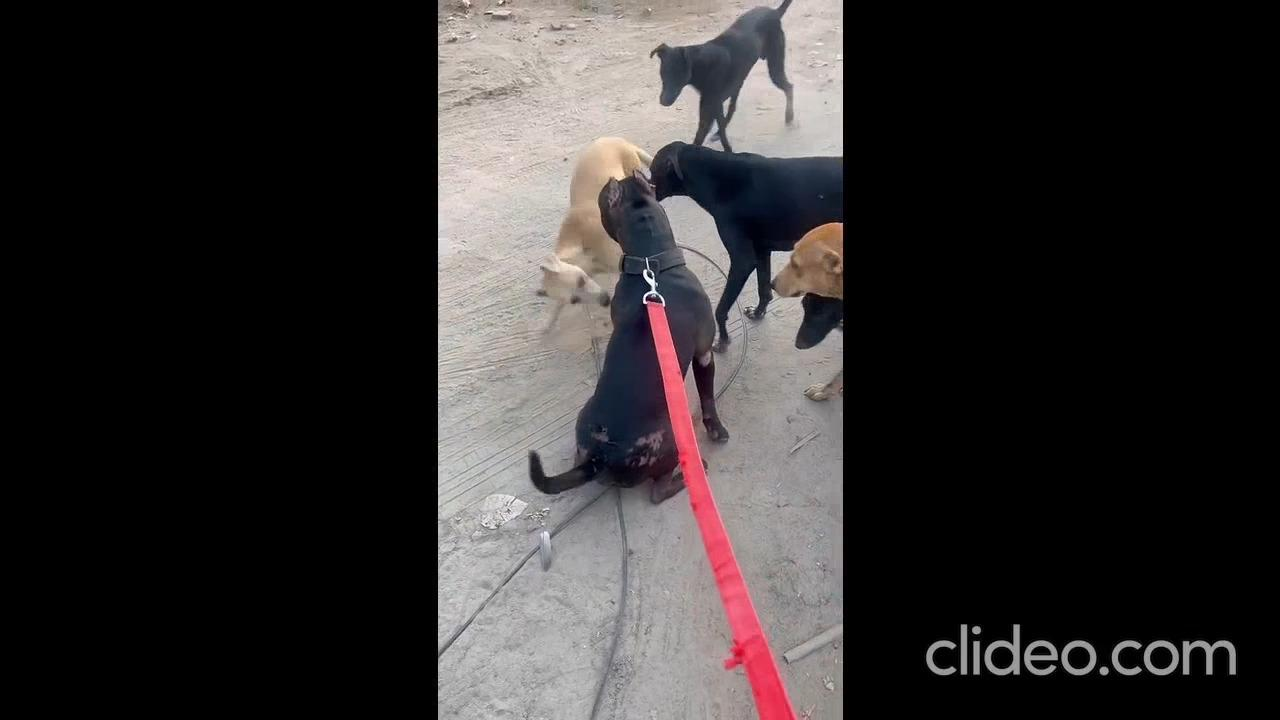dog: (647, 131, 842, 318), (533, 112, 624, 340), (643, 10, 804, 132), (786, 220, 843, 308)
